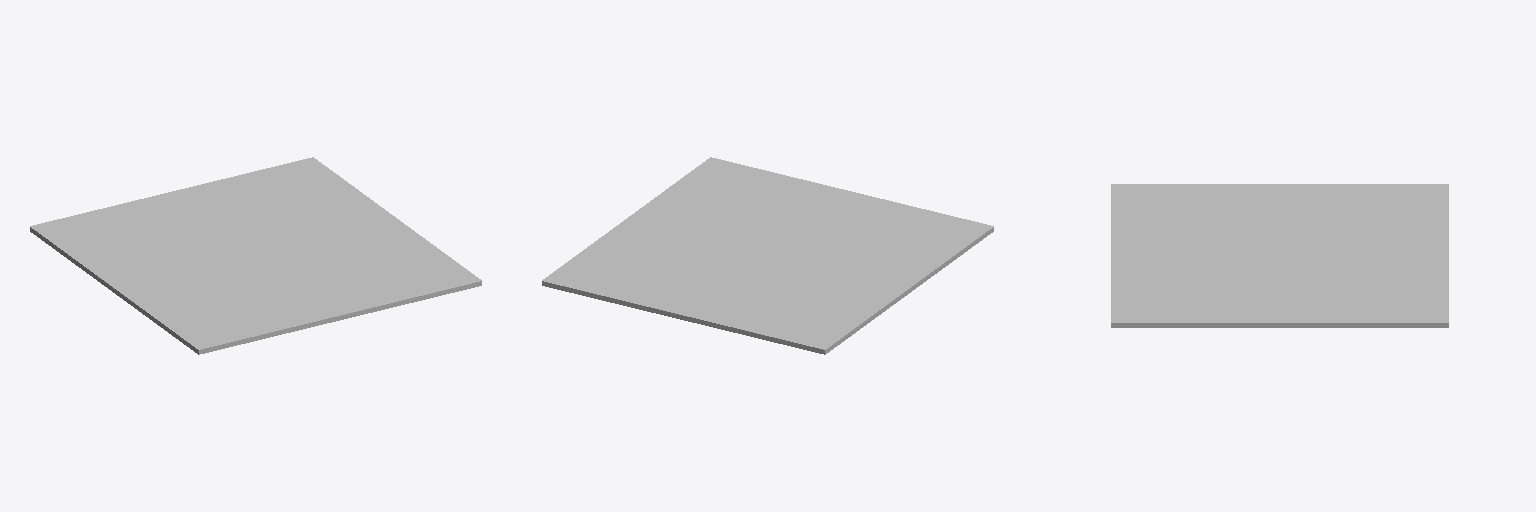
The model's file is Floor.obj.
3 renders of one model, left to right at view 1: azimuth 30°, elevation 25°; view 2: azimuth 150°, elevation 25°; view 3: azimuth 270°, elevation 25°, orthographic.
Parts seen in each view (by area): view 1: Cube.004; view 2: Cube.004; view 3: Cube.004.
Boxes of the visible parts, x1=… form: Cube.004: x1=30, y1=157, x2=481, y2=354; Cube.004: x1=542, y1=157, x2=993, y2=354; Cube.004: x1=1111, y1=184, x2=1448, y2=327.
Bounding box in the file's own units: 124 × 2 × 128.